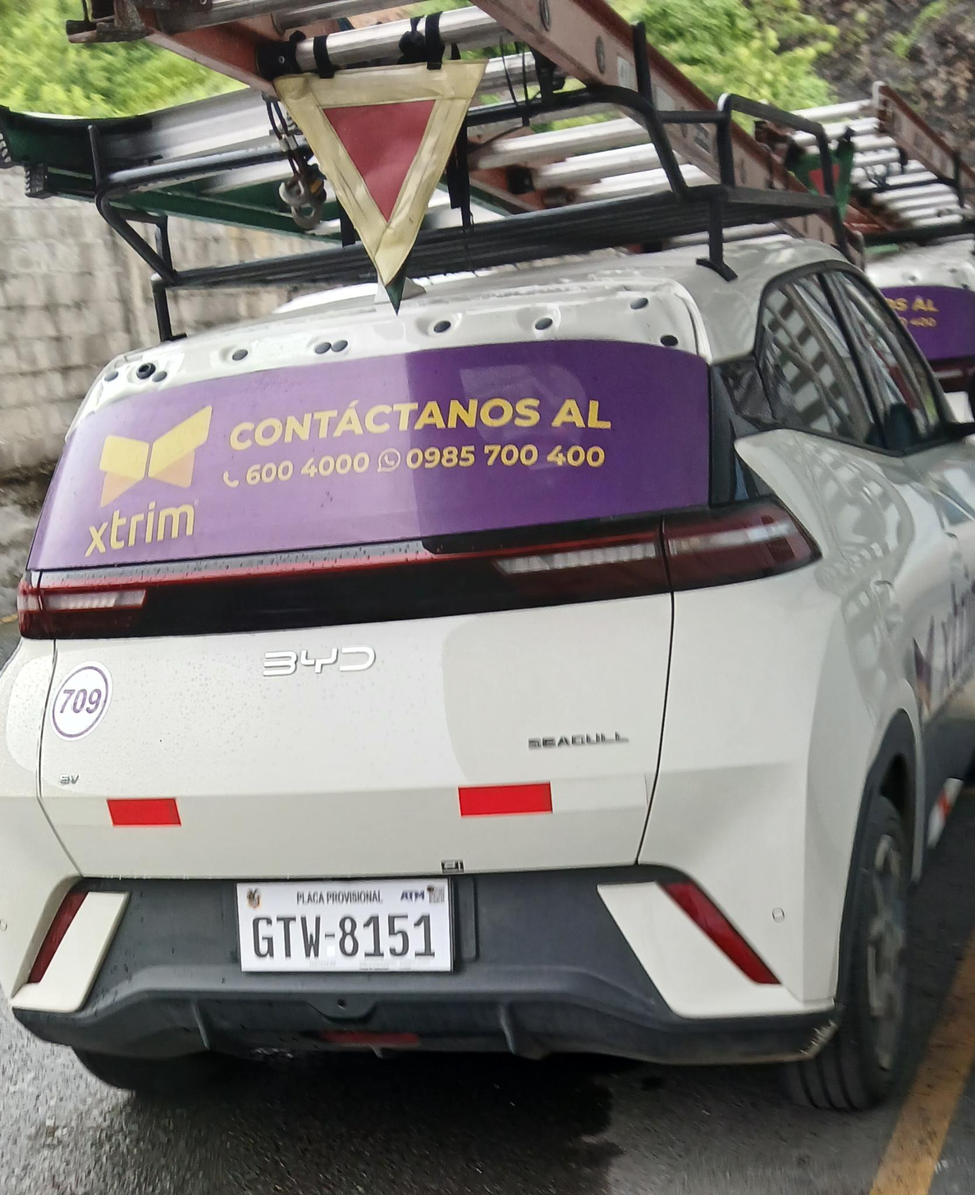license_plate: (235, 880, 457, 974)
